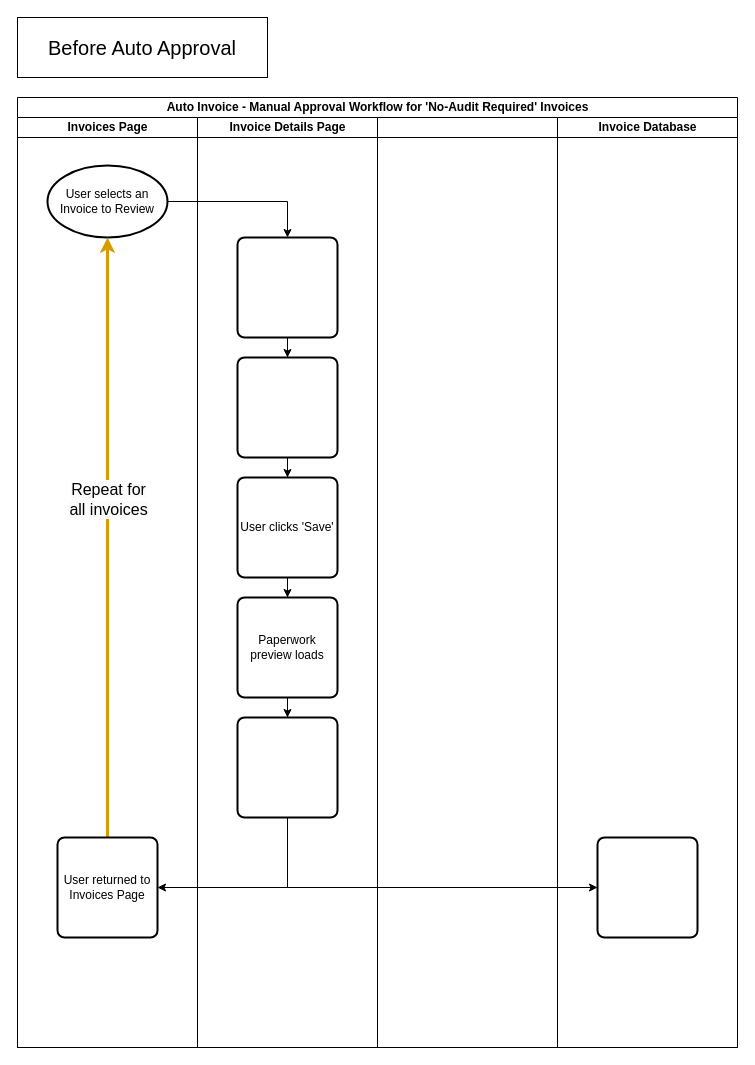
The diagram is 755 pixels wide and 1065 high, and some of its shapes have lost their labels. The box of each missing label's shape, as (x1, y1, x2, y2) in pixels:
Auto Approval Job: (376, 116, 558, 1048)
Invoice Details page loads: (236, 236, 338, 338)
Invoice Status updated: (596, 836, 698, 938)
User confirms Approval: (236, 716, 338, 818)
User updates Status to 'Approved': (236, 356, 338, 458)
